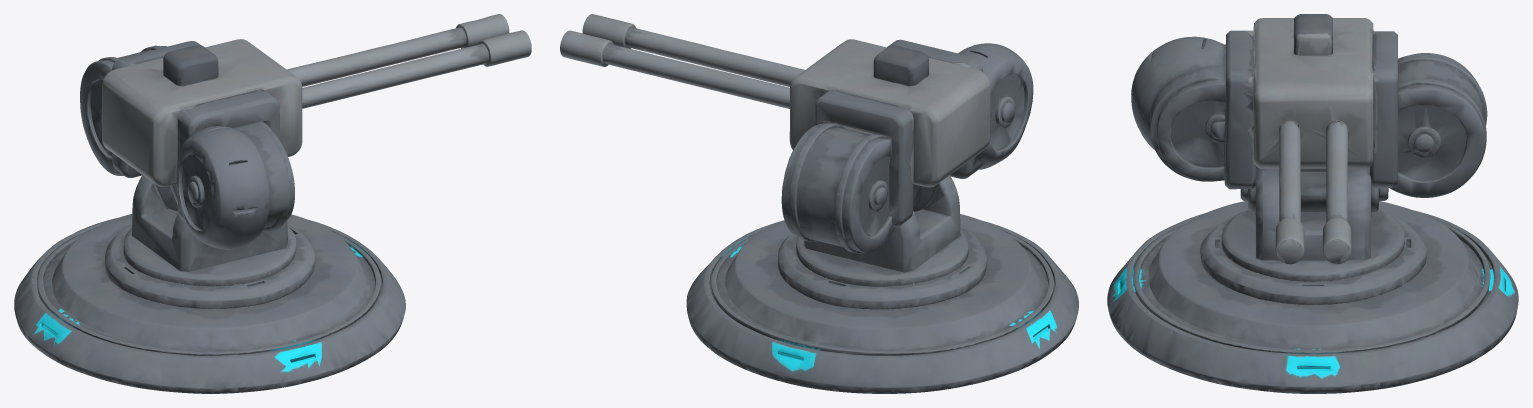
The model's file is town-mg-full.glb.
3 views of the same model, side by side, from view 1: azimuth 30°, elevation 25°; view 2: azimuth 150°, elevation 25°; view 3: azimuth 270°, elevation 25° (orthographic). The views are drawn at different scales.
Parts seen in each view (by area): view 1: town-mg-full; view 2: town-mg-full; view 3: town-mg-full.
Part boxes in pixels (left/top/right/bottom): town-mg-full: left=14, top=14, right=531, bottom=393; town-mg-full: left=560, top=14, right=1078, bottom=393; town-mg-full: left=1107, top=14, right=1518, bottom=393.
Size of the model in its own units: 4.21 by 2.24 by 3.01.
1 material, 1 textured.
